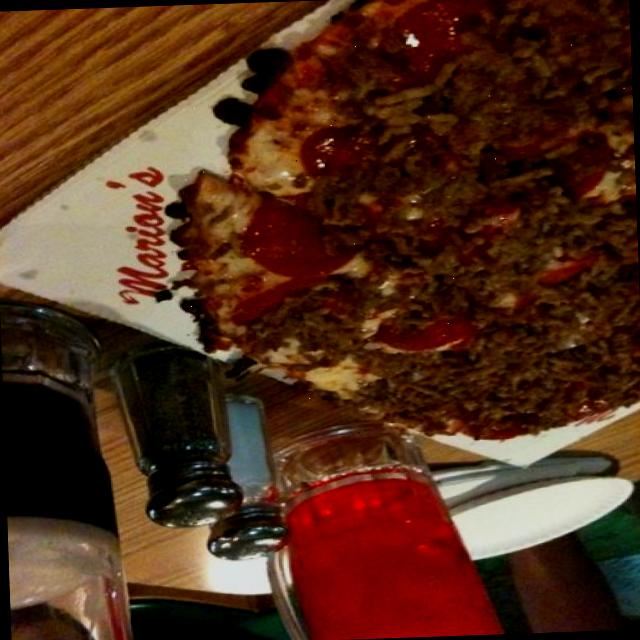pepperoni: (238, 190, 362, 286), (289, 116, 375, 195), (375, 305, 477, 358)
pizza: (172, 0, 640, 436)
